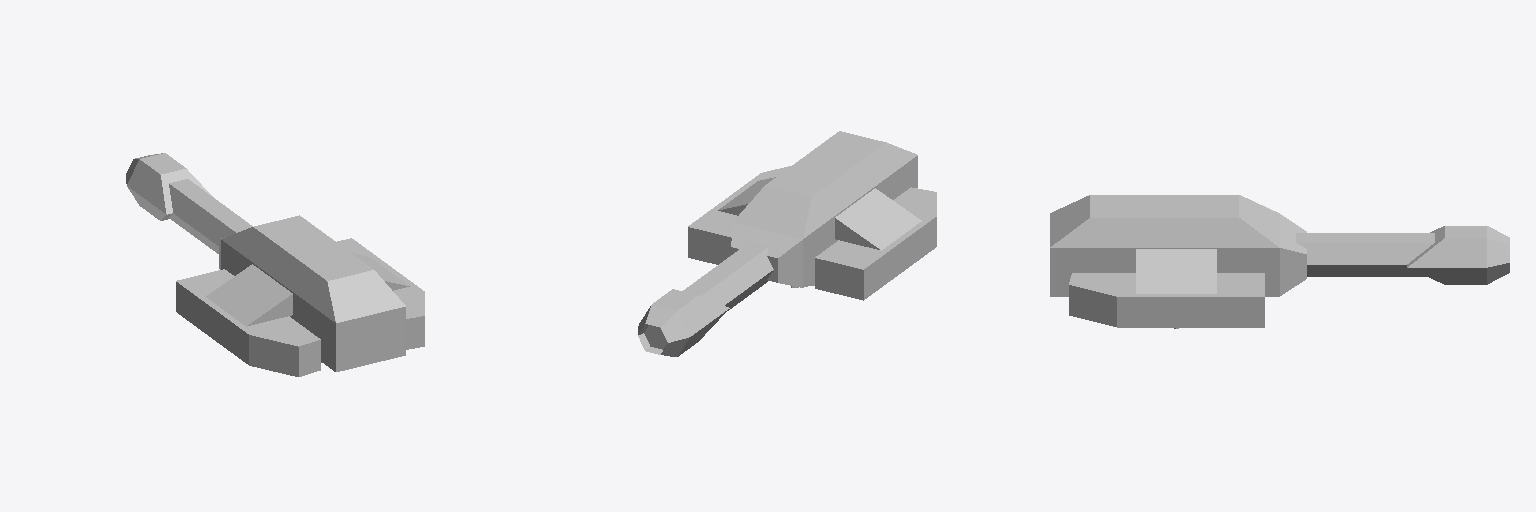
The model's file is andhart_turret.obj.
3 renders of one model, left to right at view 1: azimuth 30°, elevation 25°; view 2: azimuth 150°, elevation 25°; view 3: azimuth 270°, elevation 25°, orthographic.
Parts seen in each view (by area): view 1: sleeve, turret, gun; view 2: sleeve, turret, gun; view 3: sleeve, turret, gun.
Part boxes in pixels (left/top/right/bottom): sleeve: left=219, top=215, right=405, bottom=371; turret: left=176, top=238, right=424, bottom=376; gun: left=126, top=153, right=252, bottom=253; sleeve: left=731, top=131, right=917, bottom=287; turret: left=688, top=166, right=936, bottom=300; gun: left=638, top=241, right=773, bottom=356; sleeve: left=1050, top=195, right=1306, bottom=296; turret: left=1069, top=249, right=1264, bottom=328; gun: left=1296, top=226, right=1509, bottom=284.
Bounding box in the file's own units: 0.7727 × 0.4182 × 1.75.